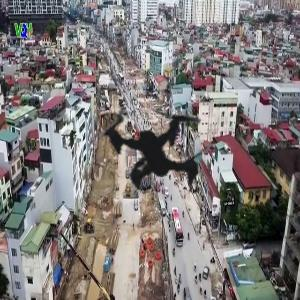drone: (14, 2, 300, 288)
